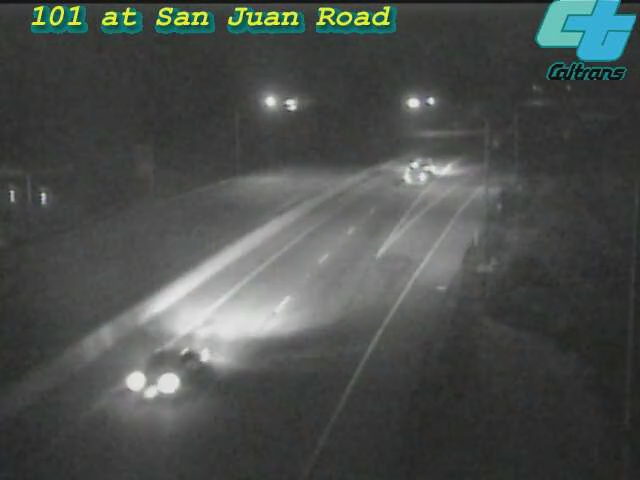vehicle: (110, 316, 220, 426), (384, 128, 464, 208)
